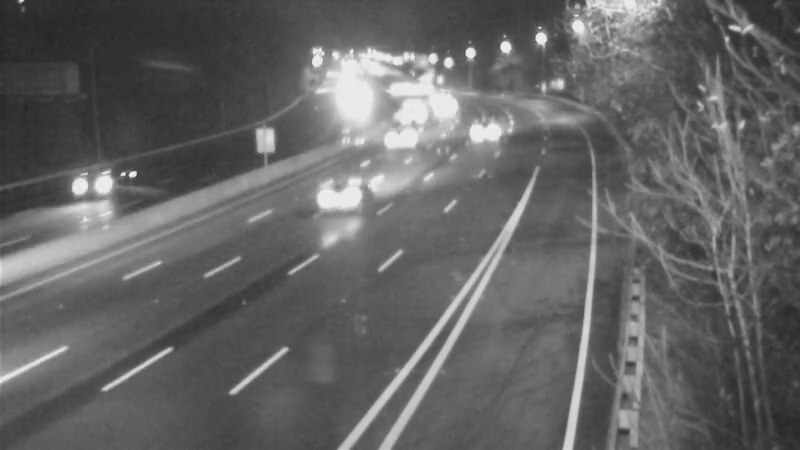vehicle: (296, 155, 376, 235), (49, 146, 129, 226), (396, 66, 446, 116), (370, 62, 420, 112), (409, 72, 459, 122), (422, 82, 472, 132), (384, 83, 434, 133), (461, 105, 511, 155), (385, 112, 435, 162)
